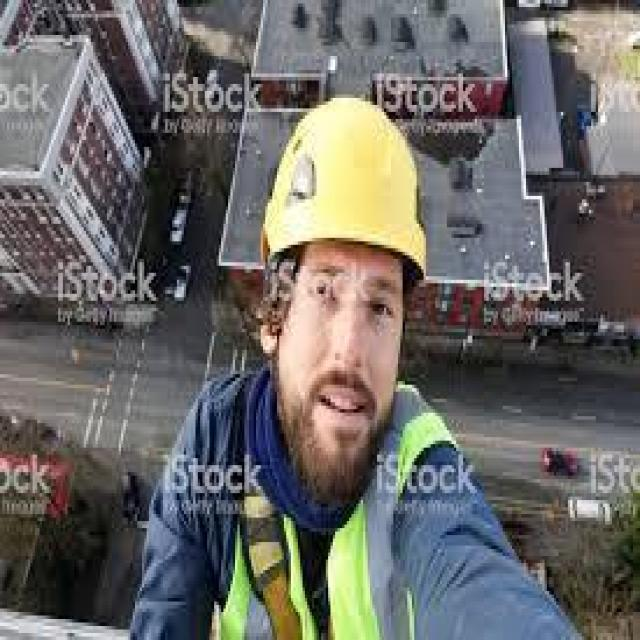helmet: (261, 94, 428, 273)
